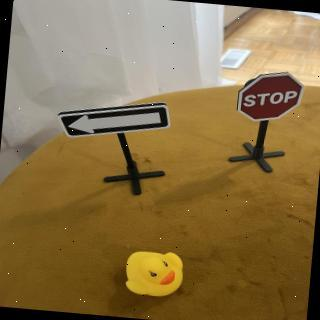duck_regular: (123, 246, 187, 301)
sign_oneway_left: (57, 96, 175, 149)
sign_stop: (237, 69, 313, 128)
